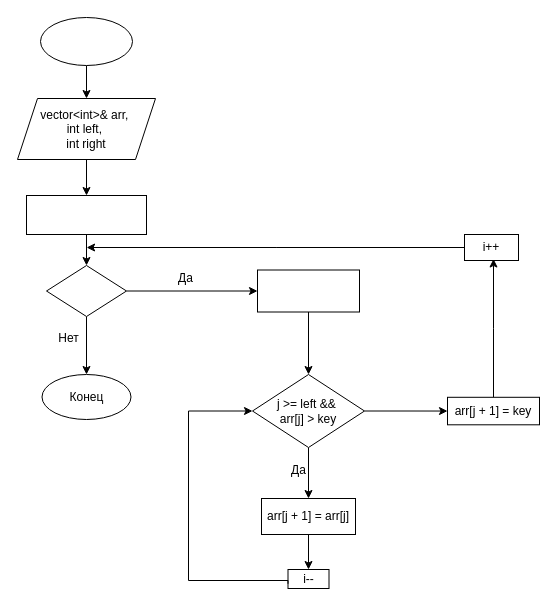
The diagram is 557 pixels wide and 610 high, and some of its shapes have lost their labels. Here are the shapes that lost their labels. From the top down, the centre of each, then its label:
point 86,41: Начано
point 86,214: int i = left + 1
point 86,290: i <= right
point 308,290: int key = arr[i] int j = i - 1
